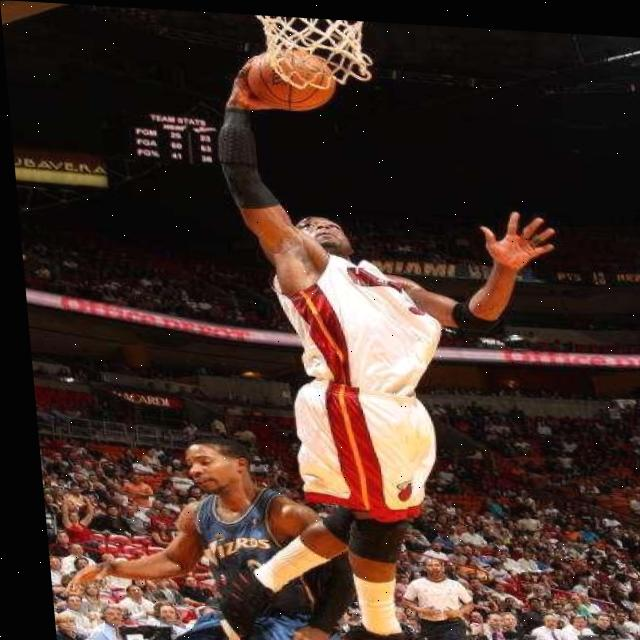basketball: (244, 48, 340, 114)
hoop: (252, 15, 379, 94)
